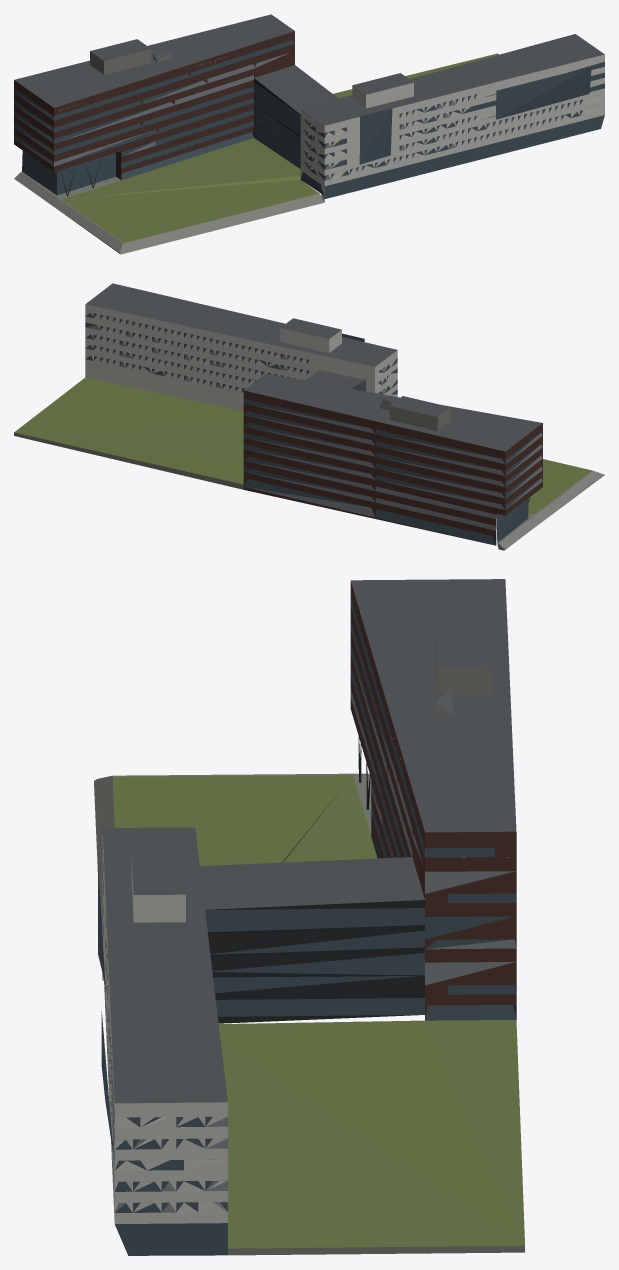
The model's file is ibis-city-west.lod2.glb.
3 renders of one model, top to bottom at view 1: azimuth 30°, elevation 25°; view 2: azimuth 150°, elevation 25°; view 3: azimuth 270°, elevation 25°, orthographic. The views are drawn at different scales.
Parts seen in each view (by area): view 1: lod2; view 2: lod2; view 3: lod2.
Boxes of the visible parts, x1=… form: lod2: x1=14, y1=14, x2=604, y2=254; lod2: x1=14, y1=283, x2=604, y2=550; lod2: x1=94, y1=579, x2=524, y2=1255.
Size of the model in its own units: 164 by 36.29 by 62.54.
